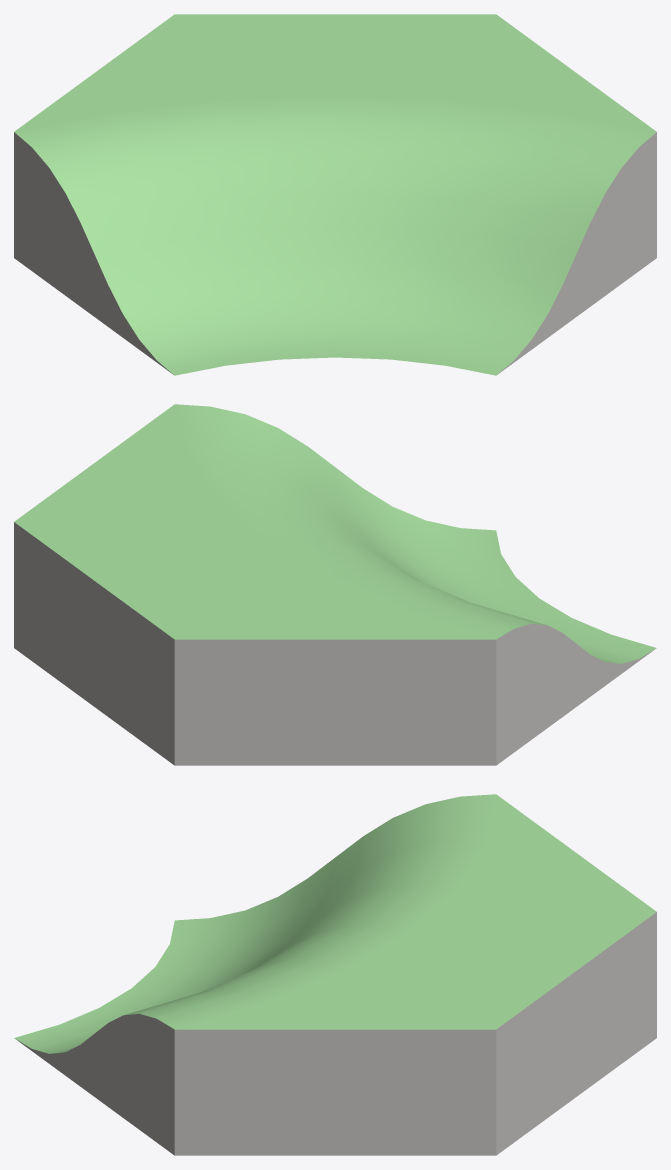
Rendered from Terrain_Grass_Hill_Curve_Inner_Gentle.glb.
3 views of the same model, one above another, from view 1: azimuth 30°, elevation 25°; view 2: azimuth 150°, elevation 25°; view 3: azimuth 270°, elevation 25° (orthographic).
Parts seen in each view (by area): view 1: object1; view 2: object1; view 3: object1.
Part boxes in pixels (left/top/right/bottom): object1: left=14, top=14, right=656, bottom=375; object1: left=14, top=404, right=656, bottom=765; object1: left=14, top=794, right=656, bottom=1155.
Bounding box in the file's own units: 1 × 0.25 × 1.15.
